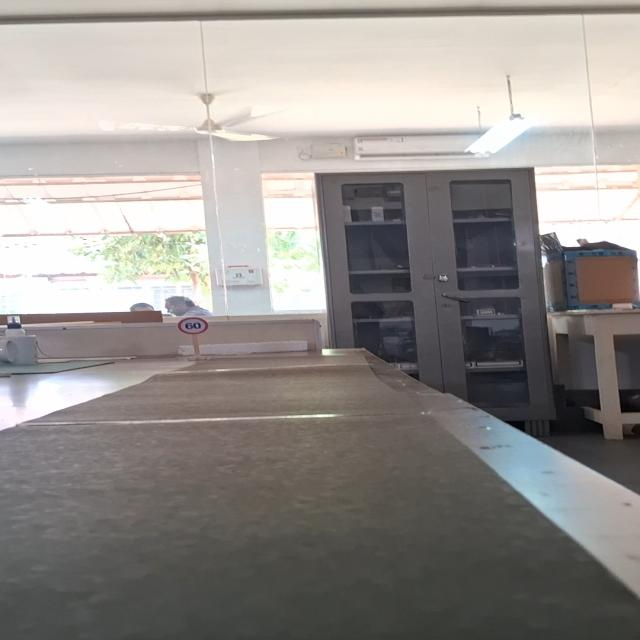Speed60: (177, 316, 210, 335)
